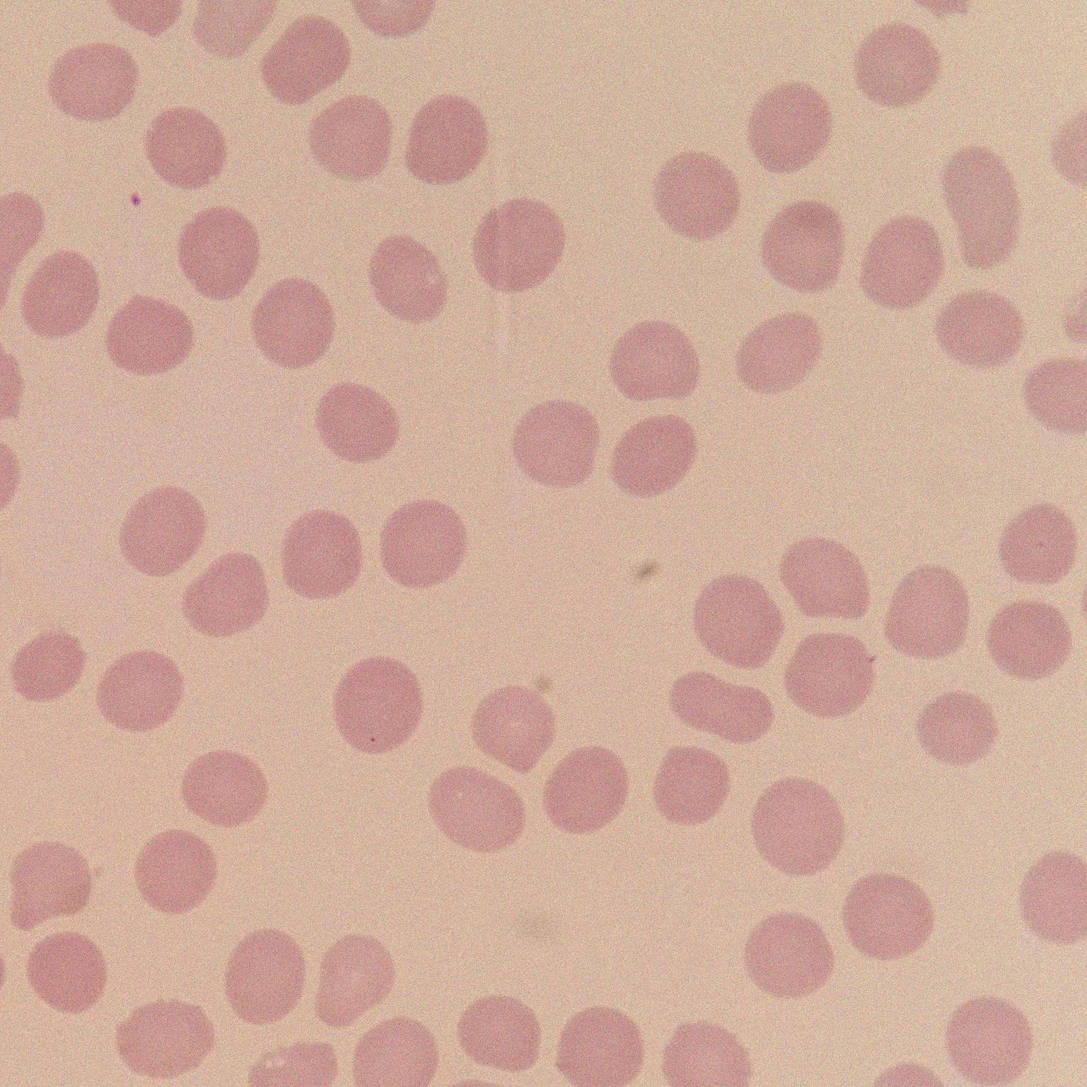Uninfected: (941, 147, 1022, 266), (472, 198, 565, 291), (750, 781, 844, 873), (332, 657, 423, 752), (694, 576, 783, 666), (430, 769, 525, 853), (380, 499, 469, 588), (884, 567, 970, 658), (119, 487, 207, 575), (261, 18, 350, 104), (404, 94, 490, 183), (222, 931, 305, 1023), (512, 401, 600, 487), (177, 207, 261, 297), (105, 293, 195, 377), (9, 840, 96, 926), (785, 632, 873, 717), (846, 875, 934, 960), (779, 536, 869, 619), (672, 669, 770, 745), (117, 1001, 213, 1078), (653, 152, 740, 236), (252, 278, 336, 365), (48, 41, 139, 121), (307, 94, 391, 180), (144, 105, 228, 190), (854, 23, 939, 107), (314, 381, 399, 465), (544, 748, 627, 834), (761, 205, 843, 292), (745, 914, 832, 996), (97, 649, 185, 730), (472, 685, 556, 769), (753, 84, 834, 171), (862, 218, 943, 305), (611, 320, 700, 399), (134, 832, 217, 916), (611, 415, 697, 496), (317, 936, 396, 1024), (947, 998, 1030, 1081), (185, 553, 269, 635), (735, 314, 821, 394), (369, 235, 448, 322), (283, 513, 364, 597), (26, 931, 107, 1015), (22, 247, 99, 335), (934, 290, 1021, 367), (181, 750, 266, 828), (653, 742, 733, 823), (556, 1010, 642, 1085), (987, 600, 1069, 678), (1019, 851, 1087, 943), (999, 502, 1076, 583), (458, 995, 540, 1070), (916, 692, 999, 766), (660, 1022, 745, 1087), (12, 630, 85, 702), (354, 1021, 436, 1085), (1024, 358, 1086, 432)
